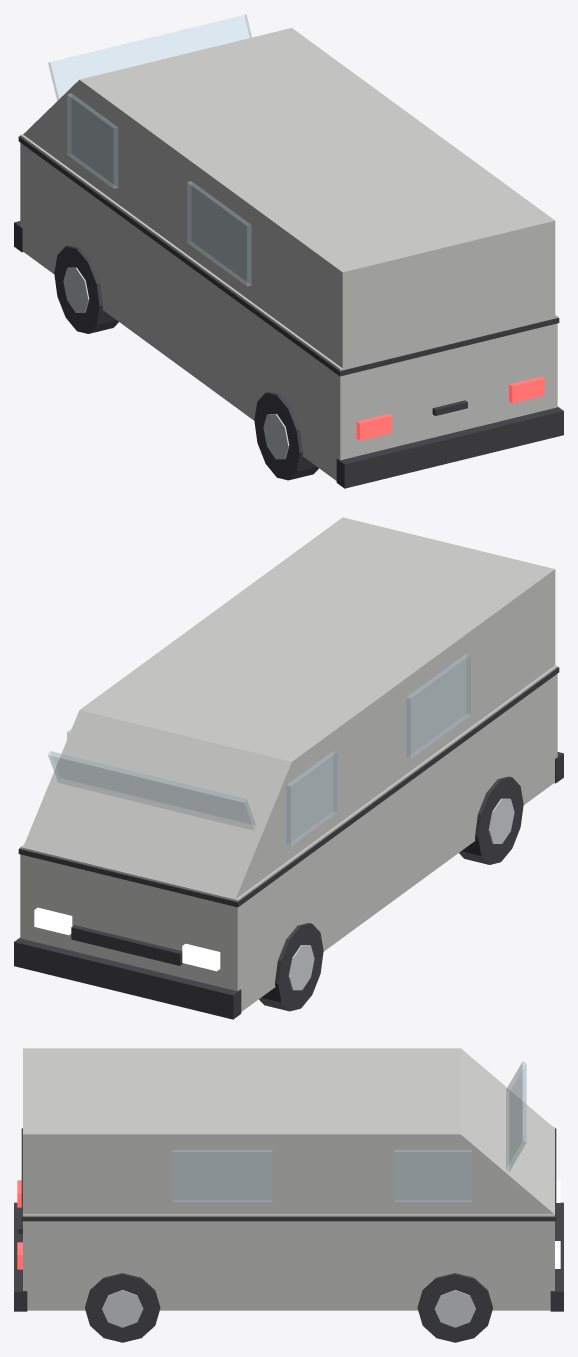
File: car_van_white.glb
3 renders of one model, top to bottom at view 1: azimuth 30°, elevation 25°; view 2: azimuth 150°, elevation 25°; view 3: azimuth 270°, elevation 25°, orthographic. The views are drawn at different scales.
Visible parts, largest first — view 1: body, wheel_fl, wheel_rl; view 2: body, wheel_rl, wheel_fl; view 3: body, wheel_fr, wheel_rr.
Boxes of the visible parts, x1,y1,x2,y2 form: body: (14,14,563,488); wheel_fl: (54,245,118,333); wheel_rl: (254,392,318,480); body: (14,517,563,1019); wheel_rl: (459,776,523,864); wheel_fl: (259,923,323,1011); body: (14,1048,563,1311); wheel_fr: (417,1273,492,1342); wheel_rr: (85,1273,160,1342).
Size of the model in its own units: 1.96 by 2.12 by 4.96.
